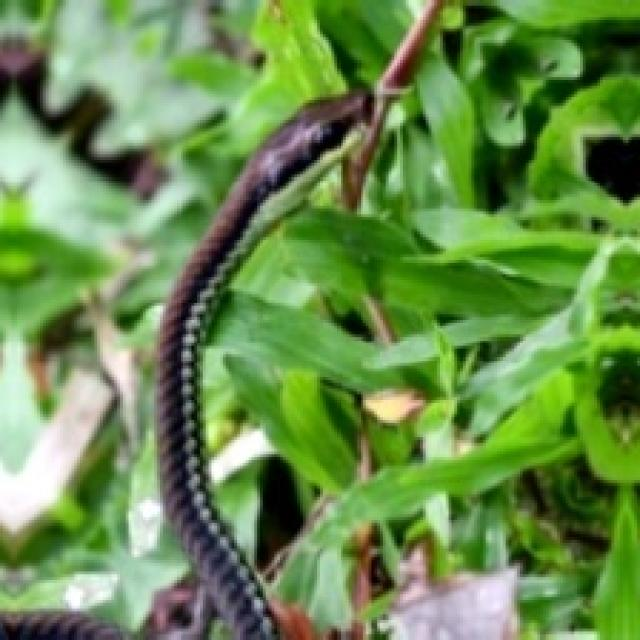philippine bronzeback treesnake: (154, 91, 377, 637), (157, 91, 371, 637)
